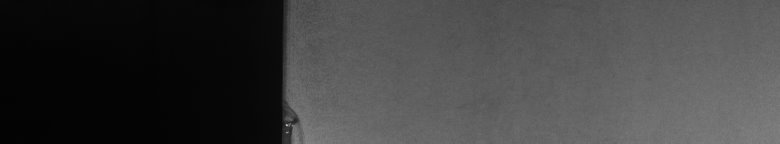hb: (292, 103, 310, 136)
